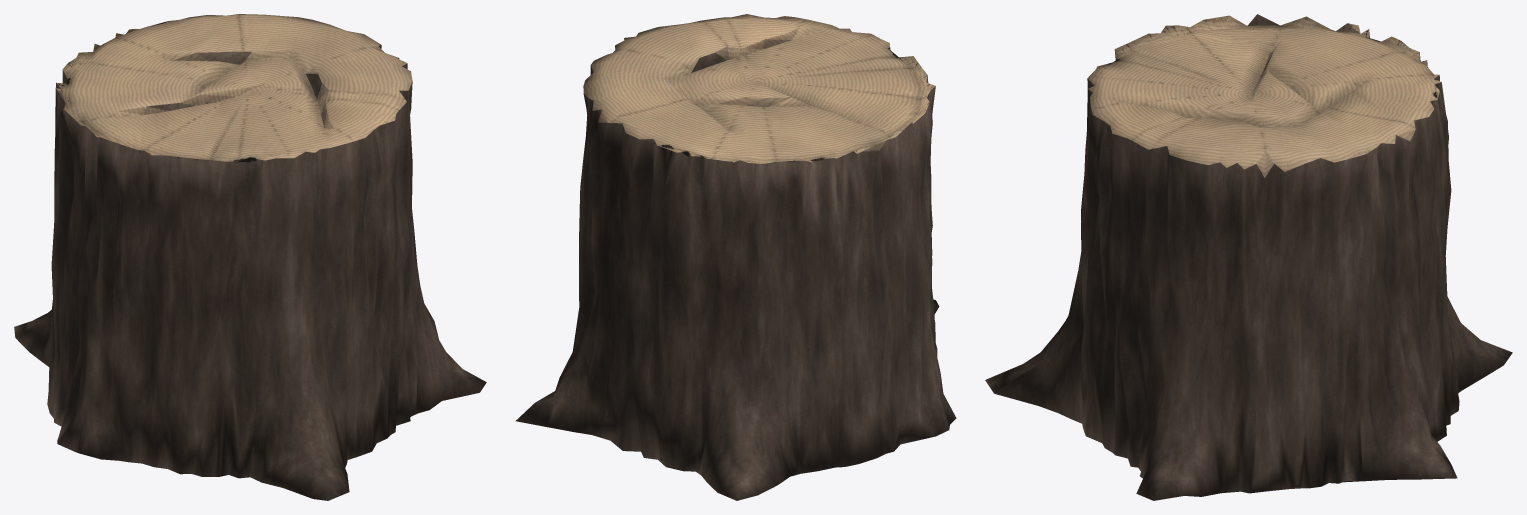
File: stump.glb
3 views of the same model, side by side, from view 1: azimuth 30°, elevation 25°; view 2: azimuth 150°, elevation 25°; view 3: azimuth 270°, elevation 25° (orthographic). The views are drawn at different scales.
Visible parts, largest first — view 1: stump; view 2: stump; view 3: stump.
Part boxes in pixels (box(x1,y1,x2,y2)): stump: box(14, 14, 486, 500); stump: box(515, 14, 956, 500); stump: box(985, 14, 1512, 500).
Bounding box in the file's own units: 0.5249 × 0.4209 × 0.6112.
Materials: 1 (1 with a texture image).
